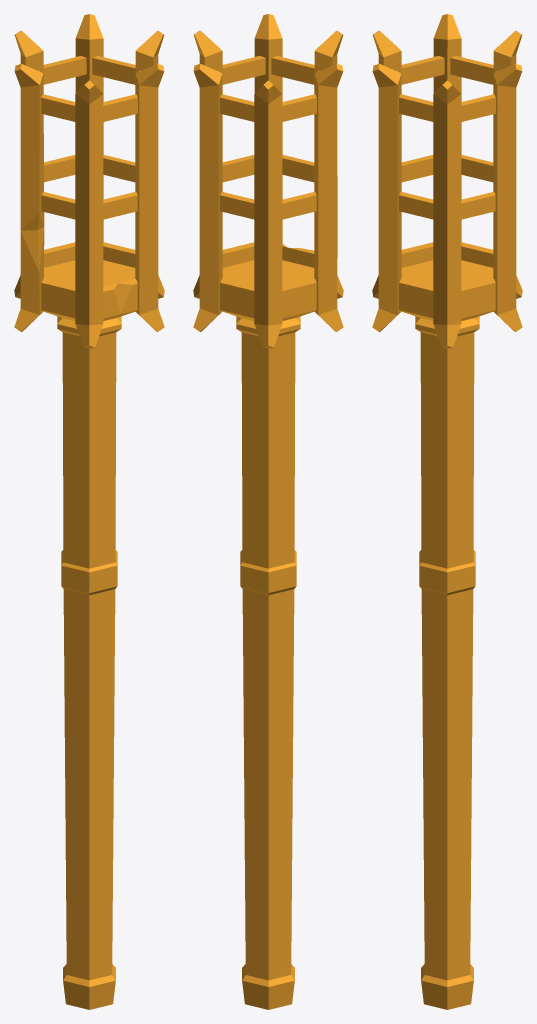
The model's file is SM_Torch_D_Fantasy.fbx.
3 views of the same model, side by side, from view 1: azimuth 30°, elevation 25°; view 2: azimuth 150°, elevation 25°; view 3: azimuth 270°, elevation 25° (orthographic).
Visible parts, largest first — view 1: torch-d-fantasy; view 2: torch-d-fantasy; view 3: torch-d-fantasy.
Part boxes in pixels (box(x1,y1,x2,y2)): torch-d-fantasy: box(14, 14, 164, 1009); torch-d-fantasy: box(193, 14, 343, 1009); torch-d-fantasy: box(372, 14, 522, 1009).
Bounding box in the file's own units: 0.1085 × 0.6596 × 0.094.
